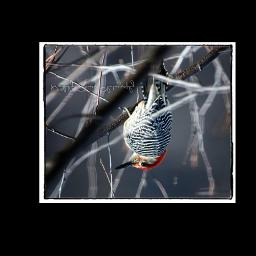Woodpecker: (111, 76, 176, 175)
